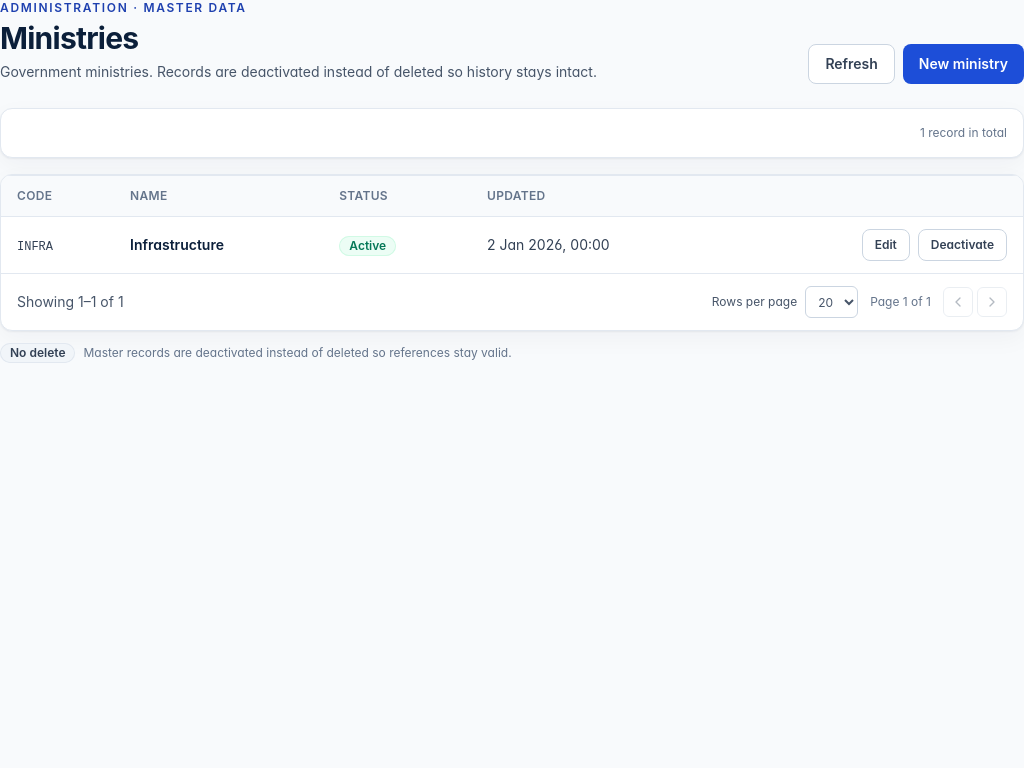
MasterDataPage › lists master records and deactivates one after confirmation
The image size is (1024, 768).
Later steps or results of the test are not shown.
Check: the heading "Ministries" is shown, box [0,20,138,56]
Check: the text "Infrastructure" is shown, box [130,236,224,253]
Click the button "Deactivate".
click(962, 245)  # box [918,229,1007,261]
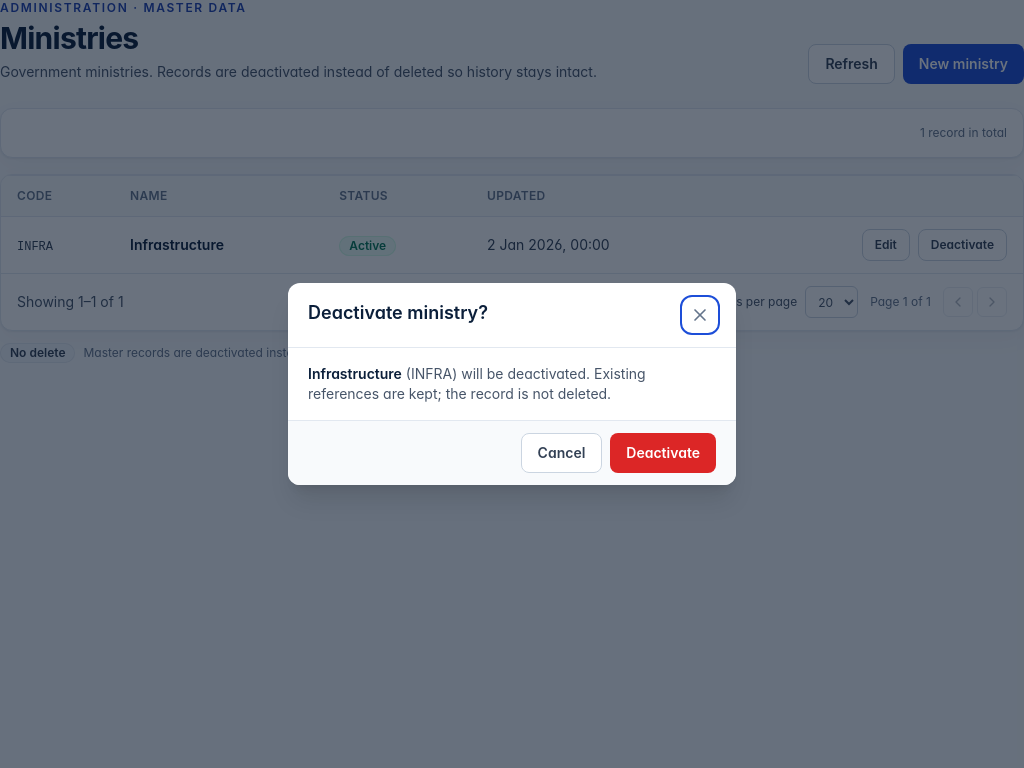
Check: the text "will be deactivated" is shown, box [308,365,646,402]
